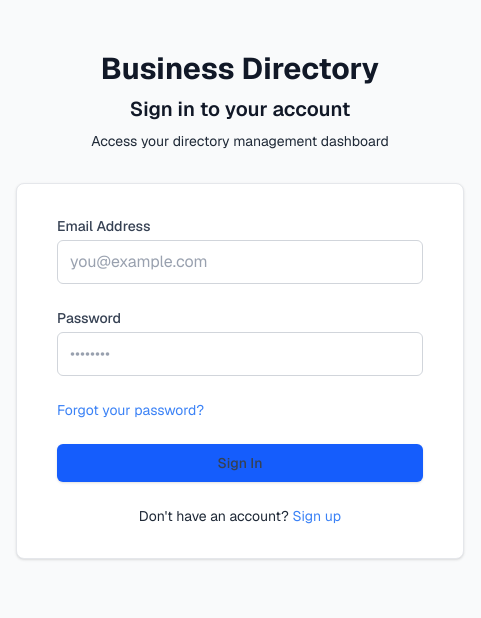
it: User Login Flow and Dashboard Access › clears error state on new login attempt
Note: First failed attempt
Type "user@example.com" into the field labelled "Email Address".
click(240, 262); type("user@example.com")  # box [57,240,423,284]
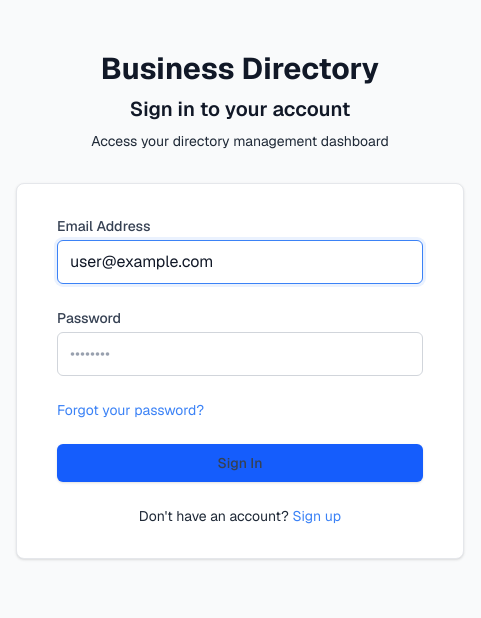
Type "wrongPassword" into the password field labelled "Password".
click(240, 354); type("wrongPassword")  # box [57,332,423,376]
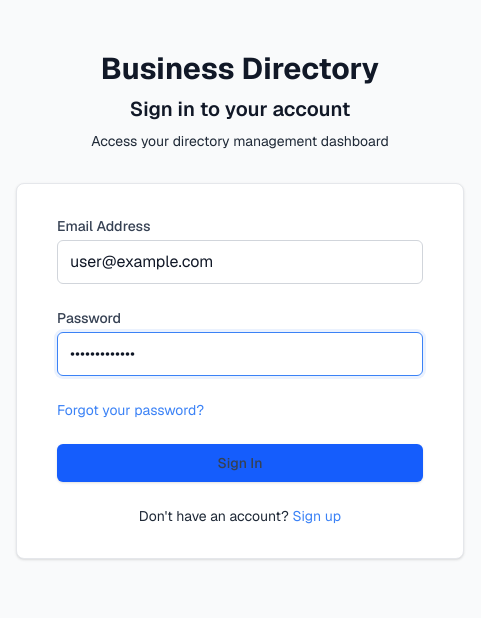
Click the button "Sign In".
click(240, 463)  # box [57,444,423,482]
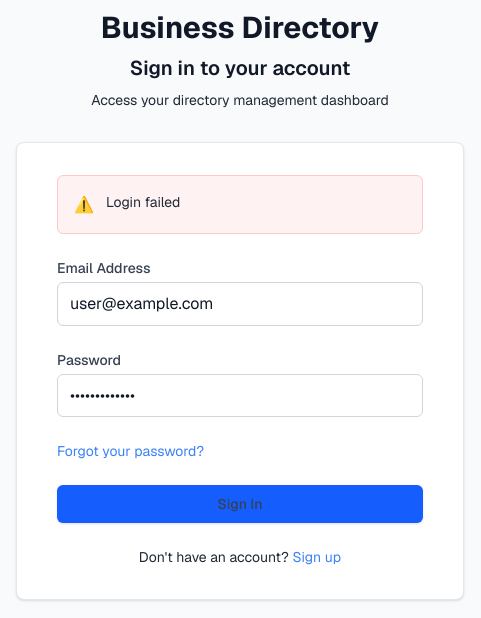
Expected: the text "Login failed" is shown, [106,192,180,212]
Note: Correct the password and try again
Type "correctPassword" into the password field labelled "Password".
click(240, 396); type("correctPassword")  # box [57,374,423,417]
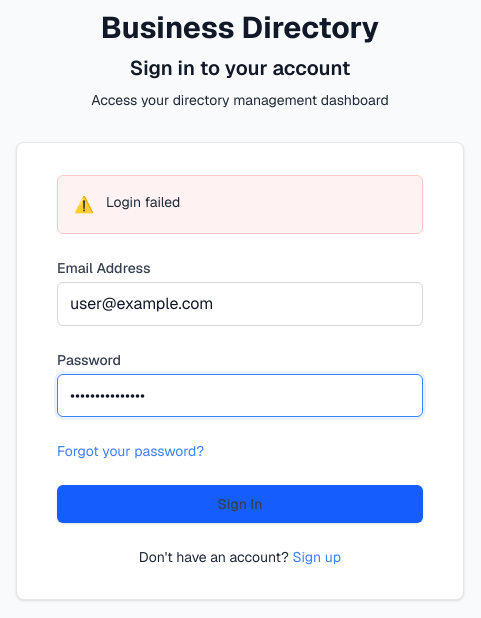
Click the button "Sign In".
click(240, 504)  # box [57,485,423,523]
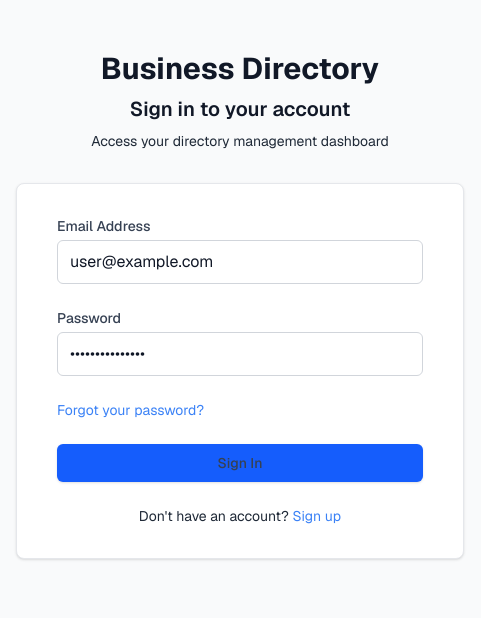
Expected: the text "Login failed" is gone
